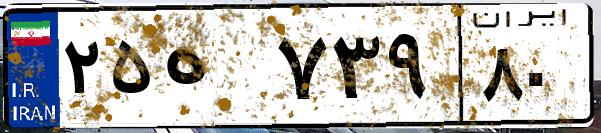0: (525, 38, 570, 115)
2: (57, 26, 110, 100)
3: (330, 28, 385, 110)
5: (110, 28, 158, 98)
7: (270, 28, 330, 110)
8: (475, 38, 525, 113)
9: (385, 28, 445, 110)
ه: (158, 20, 270, 120)
